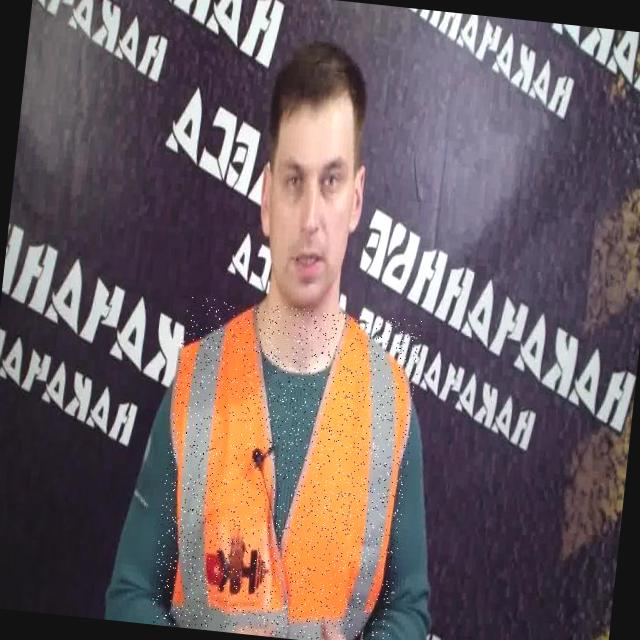vest: (149, 295, 422, 640)
